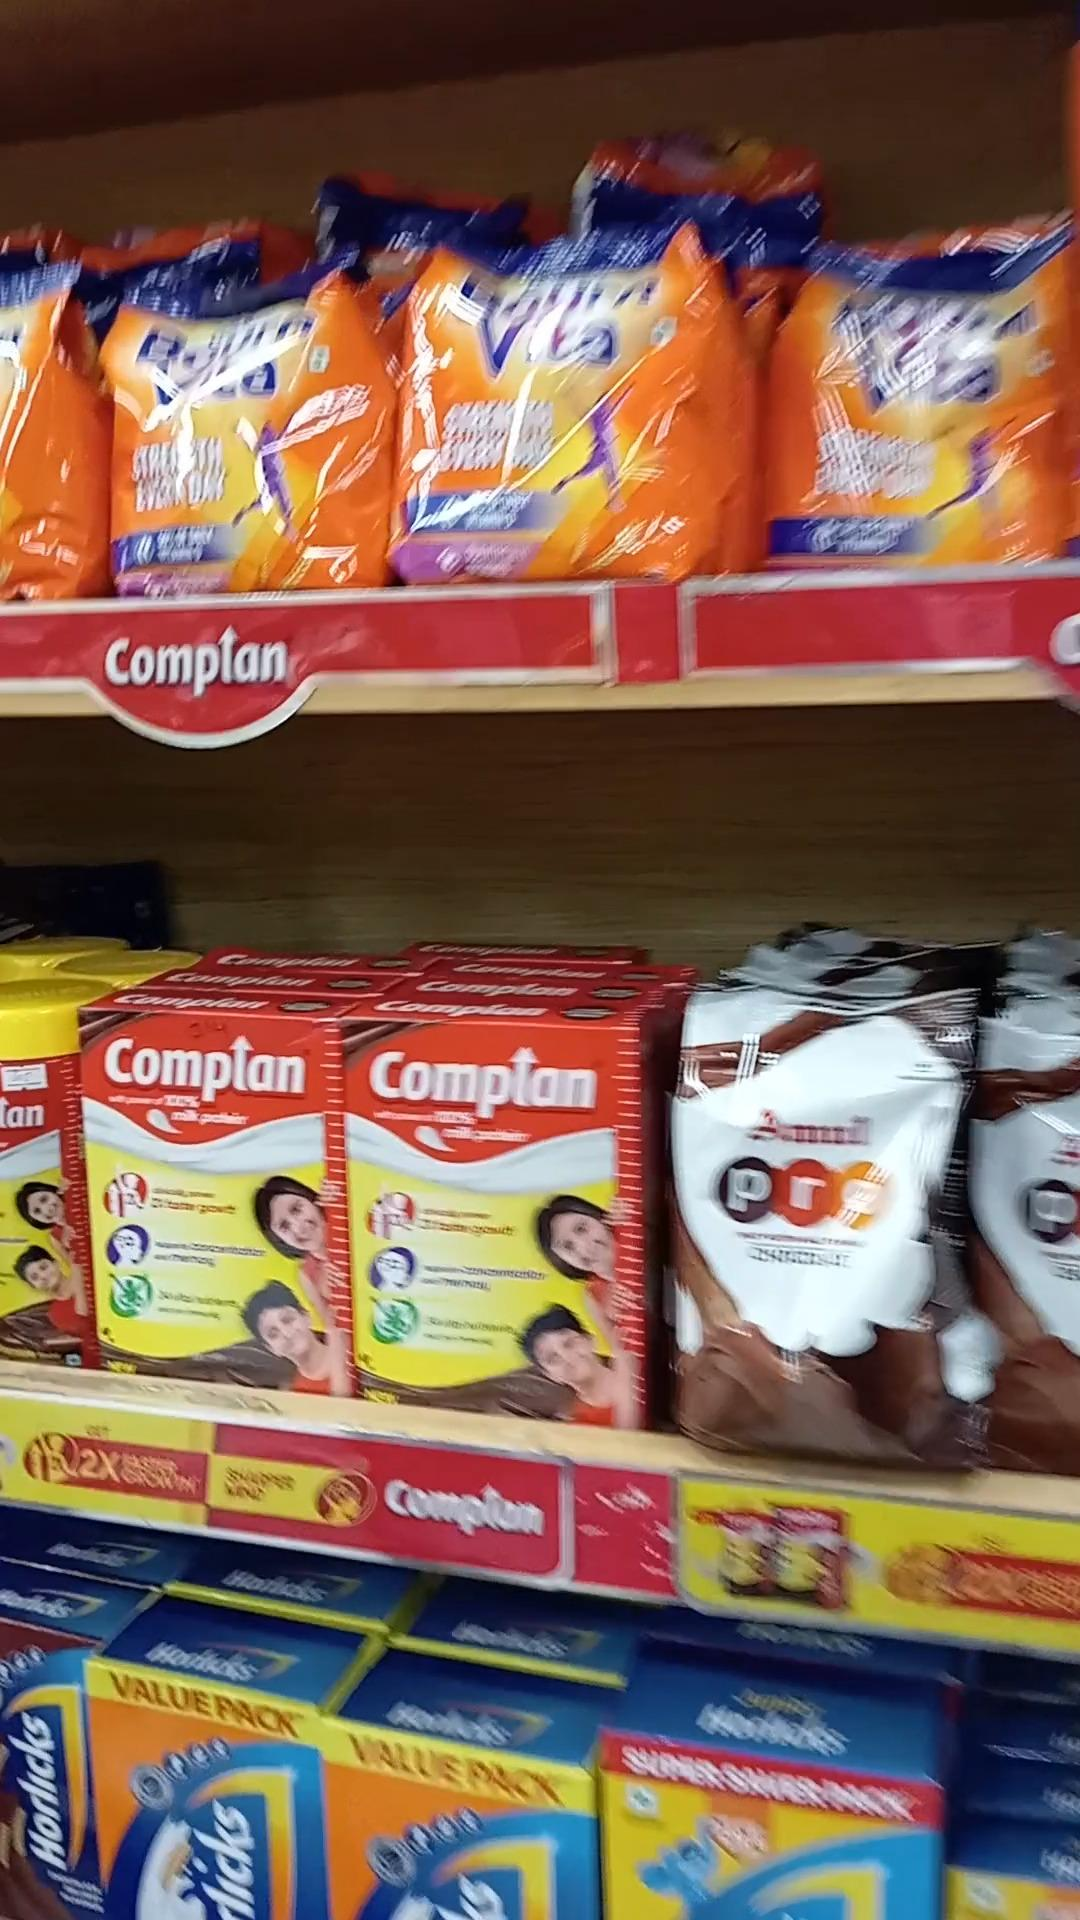BOURN_VITA_FIVE_STAR_MAGIC_500_G_POUCH: (388, 218, 705, 589), (762, 203, 1065, 559), (98, 243, 367, 589)
COMPLAN_CHOCOLATE_500_GMS_PACK: (357, 1022, 642, 1419), (79, 1007, 339, 1395)
